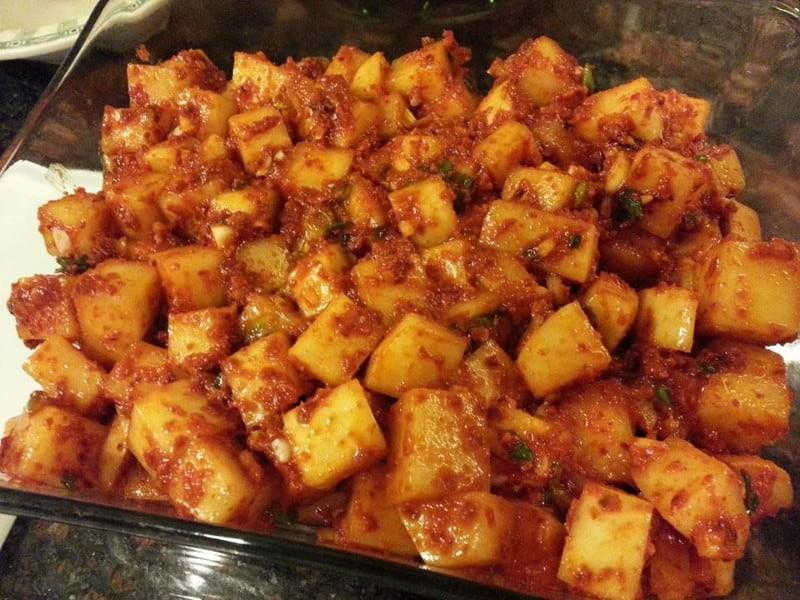AlooMasala: (0, 30, 800, 600)
